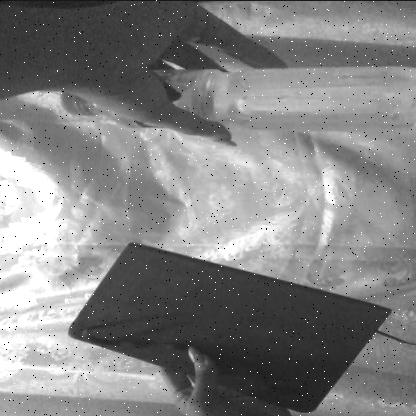Plastic Bottle: (50, 56, 416, 141)
